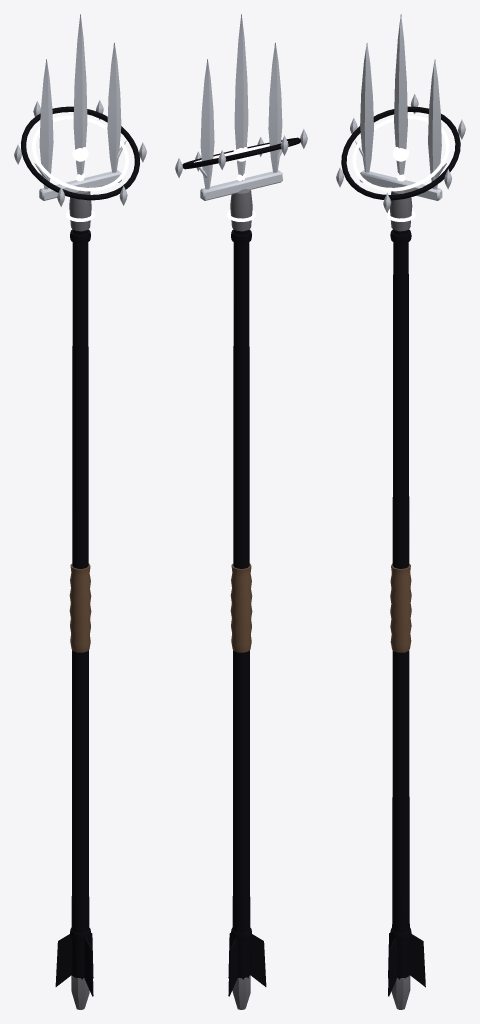
File: esc_w_knight_spear_7.glb
The picture shows the model from 3 angles, left to right: view 1: azimuth 30°, elevation 25°; view 2: azimuth 210°, elevation 25°; view 3: azimuth 330°, elevation 25°; orthographic projection.
Parts seen in each view (by area): view 1: esc_w_knight_spear_7; view 2: esc_w_knight_spear_7; view 3: esc_w_knight_spear_7.
Part boxes in pixels (x1,y1,x2,y2): esc_w_knight_spear_7: (14,14,146,1009); esc_w_knight_spear_7: (175,14,307,1009); esc_w_knight_spear_7: (336,14,465,1009).
Size of the model in its own units: 0.2919 by 2.38 by 0.2642.
